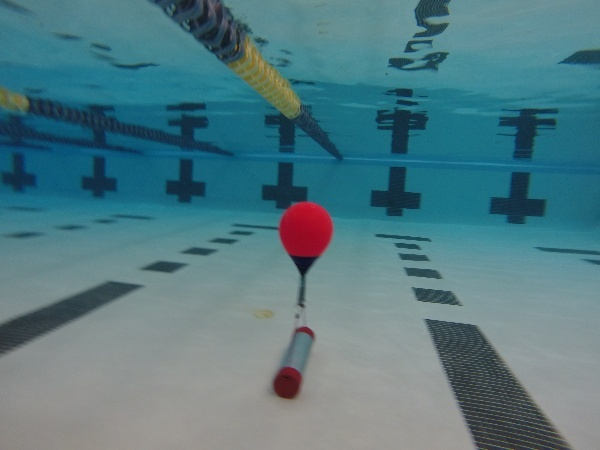buoy_red: (272, 196, 336, 279)
